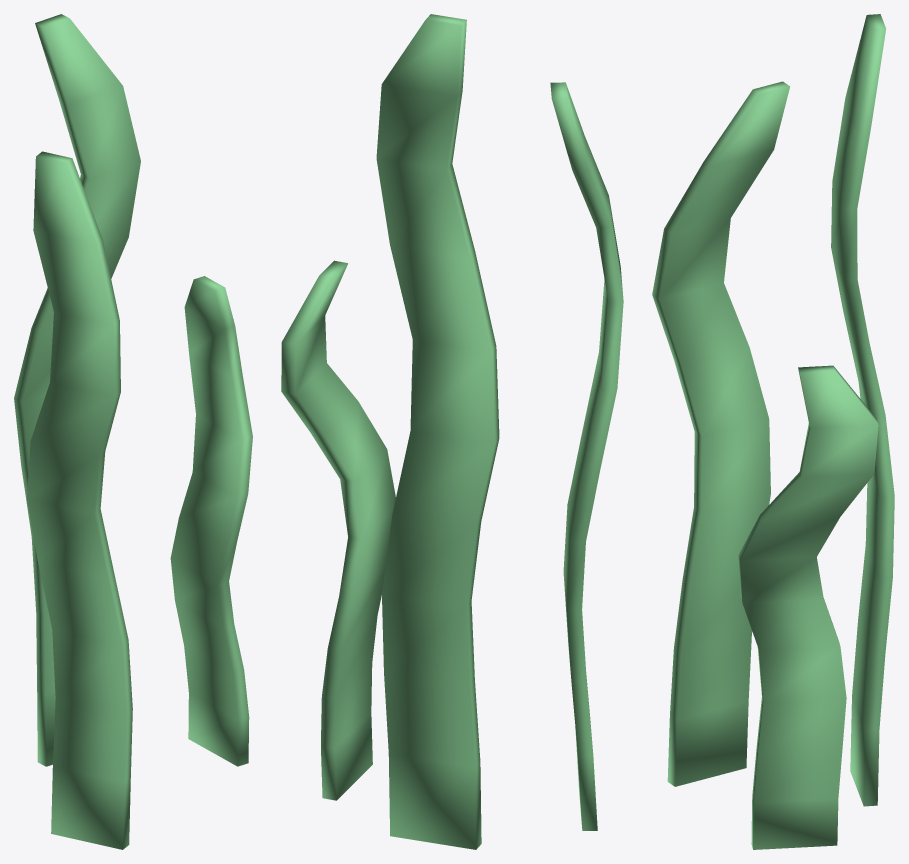
Rendered from Small5.fbx.
The picture shows the model from 3 angles, left to right: view 1: azimuth 30°, elevation 25°; view 2: azimuth 150°, elevation 25°; view 3: azimuth 270°, elevation 25°; orthographic projection. The views are drawn at different scales.
Visible parts, largest first — view 1: Small5_EXPORT; view 2: Small5_EXPORT; view 3: Small5_EXPORT.
Part boxes in pixels (left/top/right/bottom): Small5_EXPORT: left=14, top=14, right=252, bottom=849; Small5_EXPORT: left=281, top=14, right=623, bottom=849; Small5_EXPORT: left=652, top=14, right=894, bottom=849.
Bounding box in the file's own units: 0.9189 × 2.73 × 0.7742.
